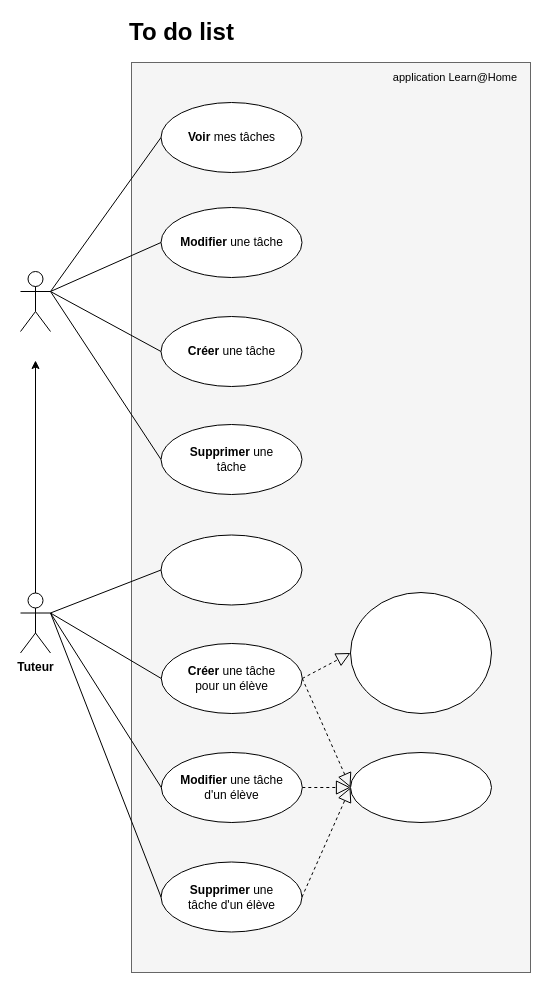
Image size: 548x990. Some labels were removed from this diagram. The shapes that lost their labels are listed below. From the top down, each one's centre as x and y in pixels, then its label:
At [35,301]: "Élève".
At [231,569]: "Voir les tâches d'un élève".
At [421,653]: "Si date, notifier le RDV dans les calendriers des utilisateurs concernés".
At [421,787]: "Envoyer un message à l'élève".
